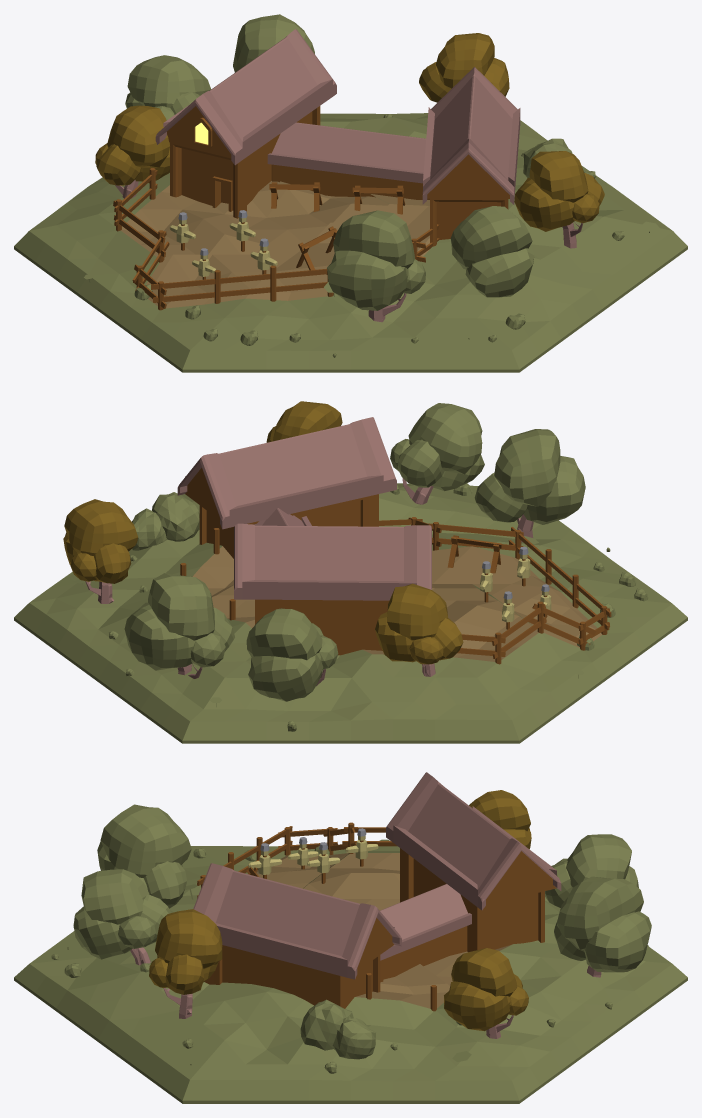
The model's file is barracks.glb.
The picture shows the model from 3 angles, top to bottom: view 1: azimuth 30°, elevation 25°; view 2: azimuth 150°, elevation 25°; view 3: azimuth 270°, elevation 25°; orthographic projection.
Visible parts, largest first — view 1: land, building, big_details, small_details; view 2: land, big_details, building, small_details; view 3: land, building, big_details, small_details.
Boxes of the visible parts, x1,y1,x2,y2 form: land: (14,113,687,372); building: (113,29,520,310); big_details: (95,14,604,322); small_details: (84,114,660,357); land: (14,483,687,743); big_details: (63,401,585,701); building: (177,417,611,664); small_details: (73,483,648,731); land: (14,846,687,1103); building: (193,772,561,1011); big_details: (73,790,651,1059); small_details: (51,839,648,1073).
Size of the model in its own units: 1.73 by 0.5269 by 2.
